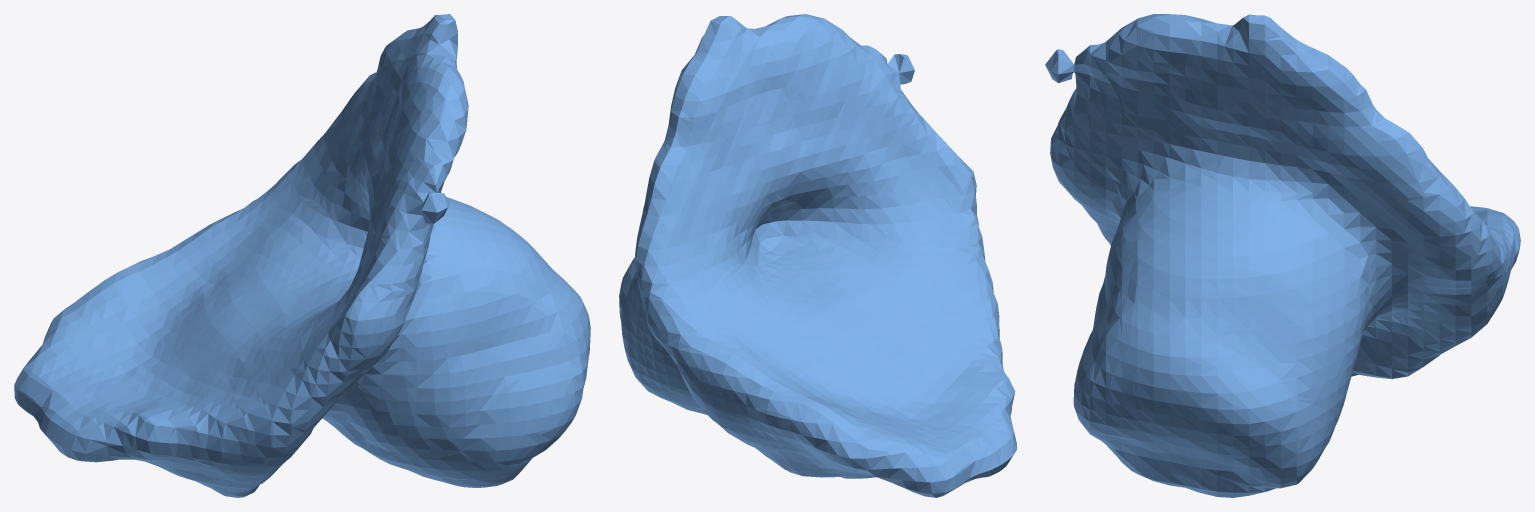
File: water_0020.glb
3 views of the same model, side by side, from view 1: azimuth 30°, elevation 25°; view 2: azimuth 150°, elevation 25°; view 3: azimuth 270°, elevation 25° (orthographic). The views are drawn at different scales.
Parts seen in each view (by area): view 1: Water_0020; view 2: Water_0020; view 3: Water_0020.
Boxes of the visible parts, left/top/right/bottom form: Water_0020: left=14, top=14, right=590, bottom=497; Water_0020: left=619, top=14, right=1016, bottom=497; Water_0020: left=1045, top=14, right=1520, bottom=497.
Bounding box in the file's own units: 2.1 × 1.9 × 1.75.
